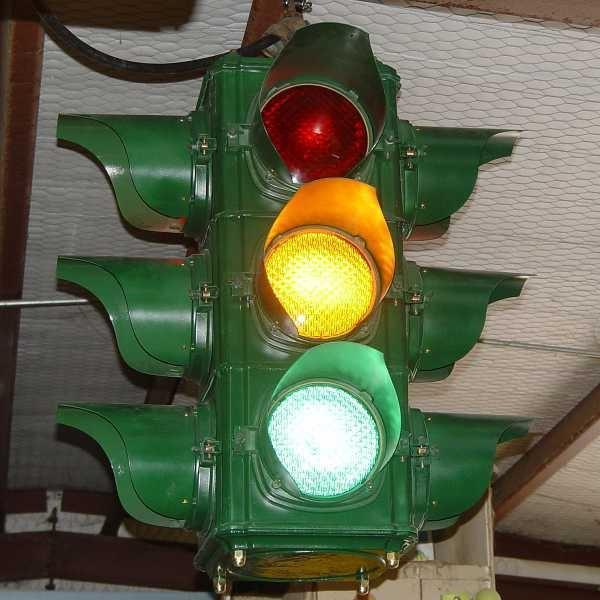green: (236, 352, 407, 532)
